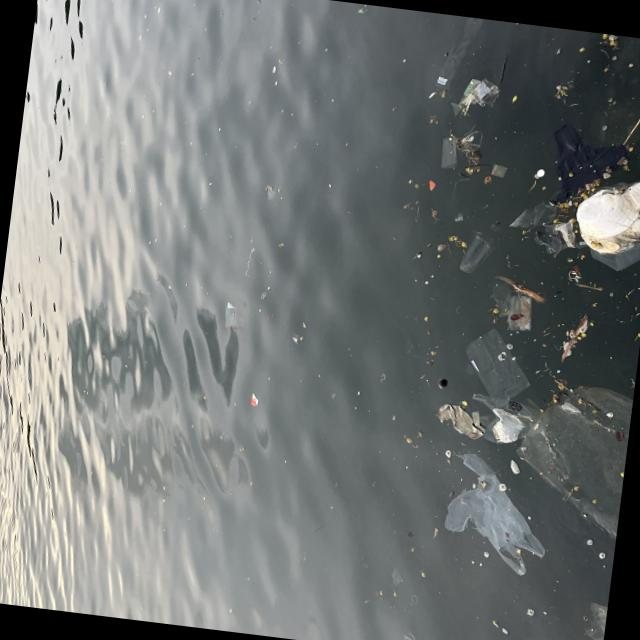foam: (574, 175, 640, 244)
plastic bag: (438, 455, 546, 576)
